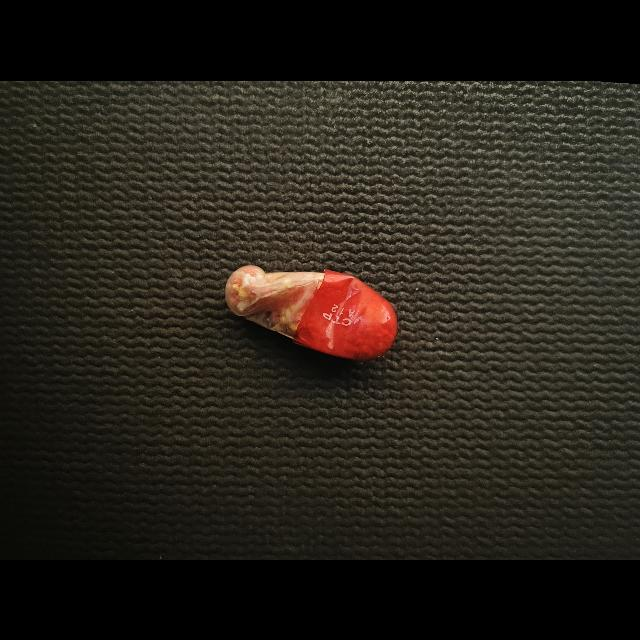Defective Capsule: (225, 264, 397, 360)
